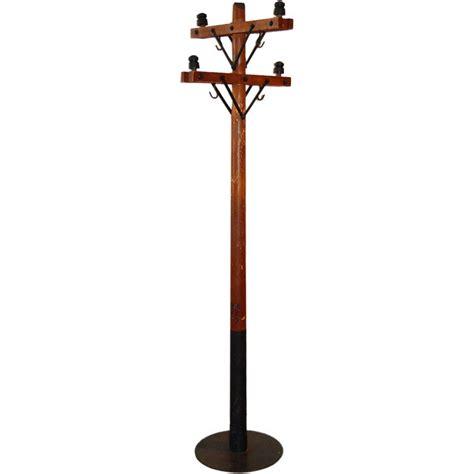pole: (168, 4, 318, 474)
